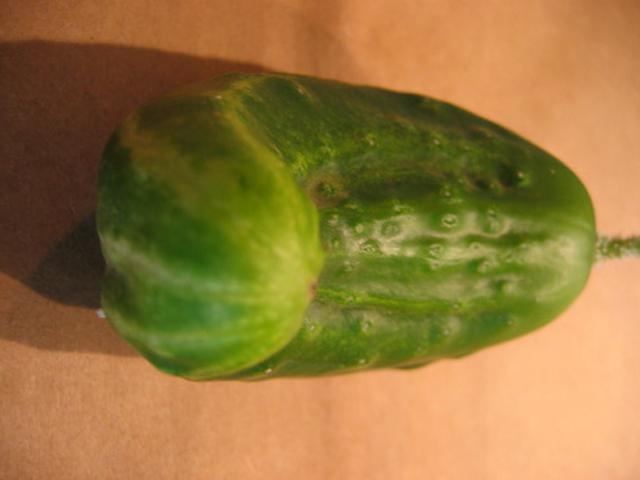cucumber: (96, 76, 598, 384)
